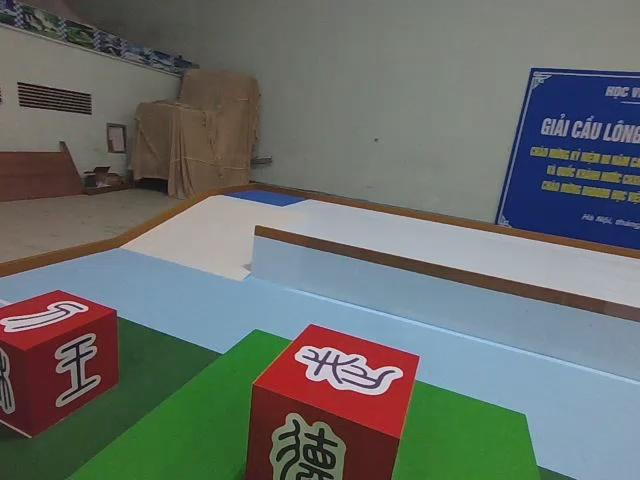R2 Fake: (243, 322, 420, 480), (0, 288, 119, 437)
